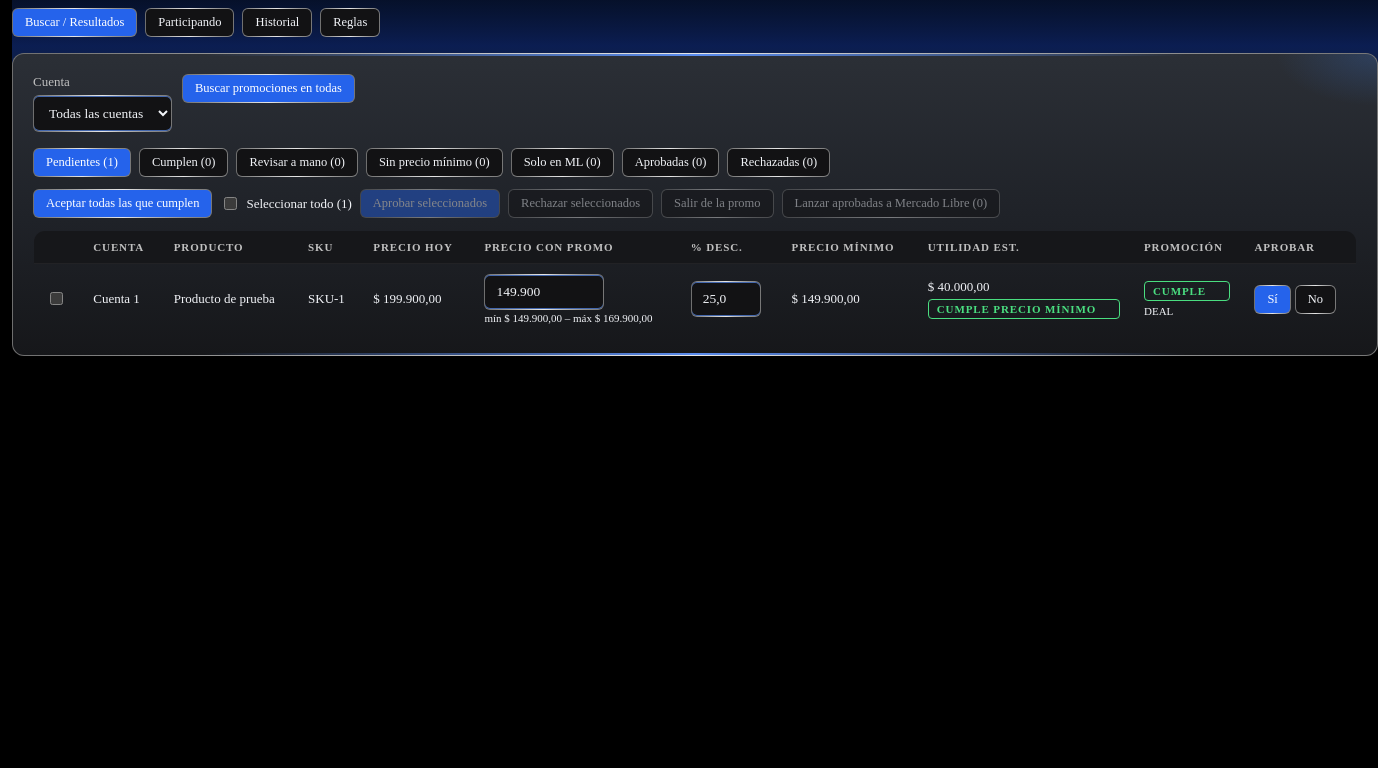
Test: PaginaPromociones — punto 2 (rama fix-promociones-edicion): Sí es una decisión directa, con toast › Sí con rechazo blando (HTTP 200, estado 'rechazada'): el toast muestra el motivo real, nunca un 'listo' silencioso
expect the text "Producto de prueba" is shown: met, box [162,264,296,334]
Click the button "Sí": point(1273, 299) [1254,284,1291,314]
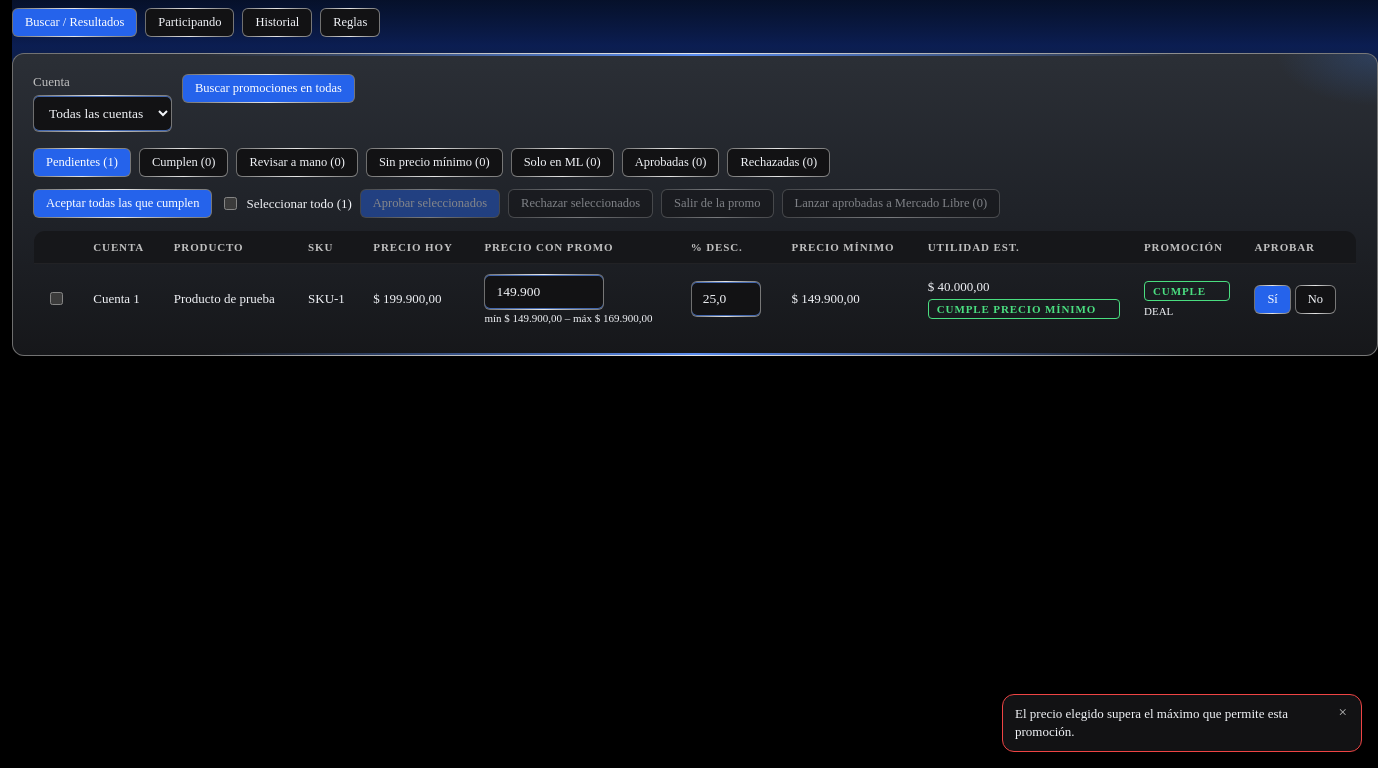
expect the text "El precio elegido supera el máximo que permite esta promoción." is shown: met, box [1015,705,1328,741]
